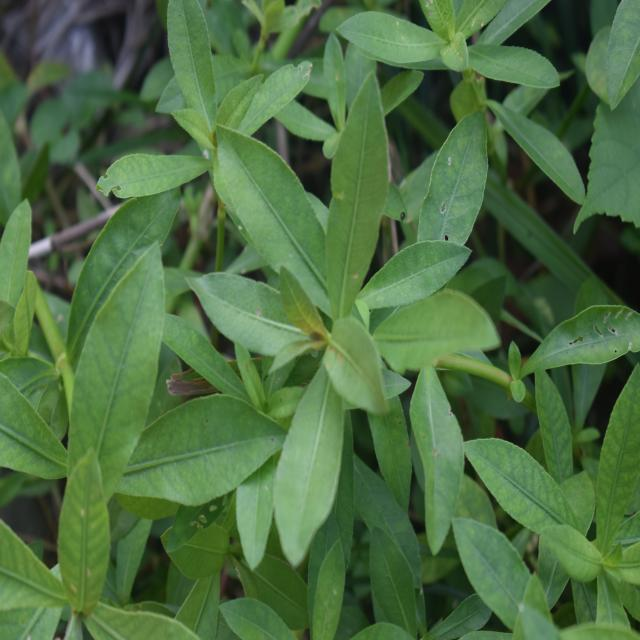Alligatorweed: (182, 81, 490, 516)
